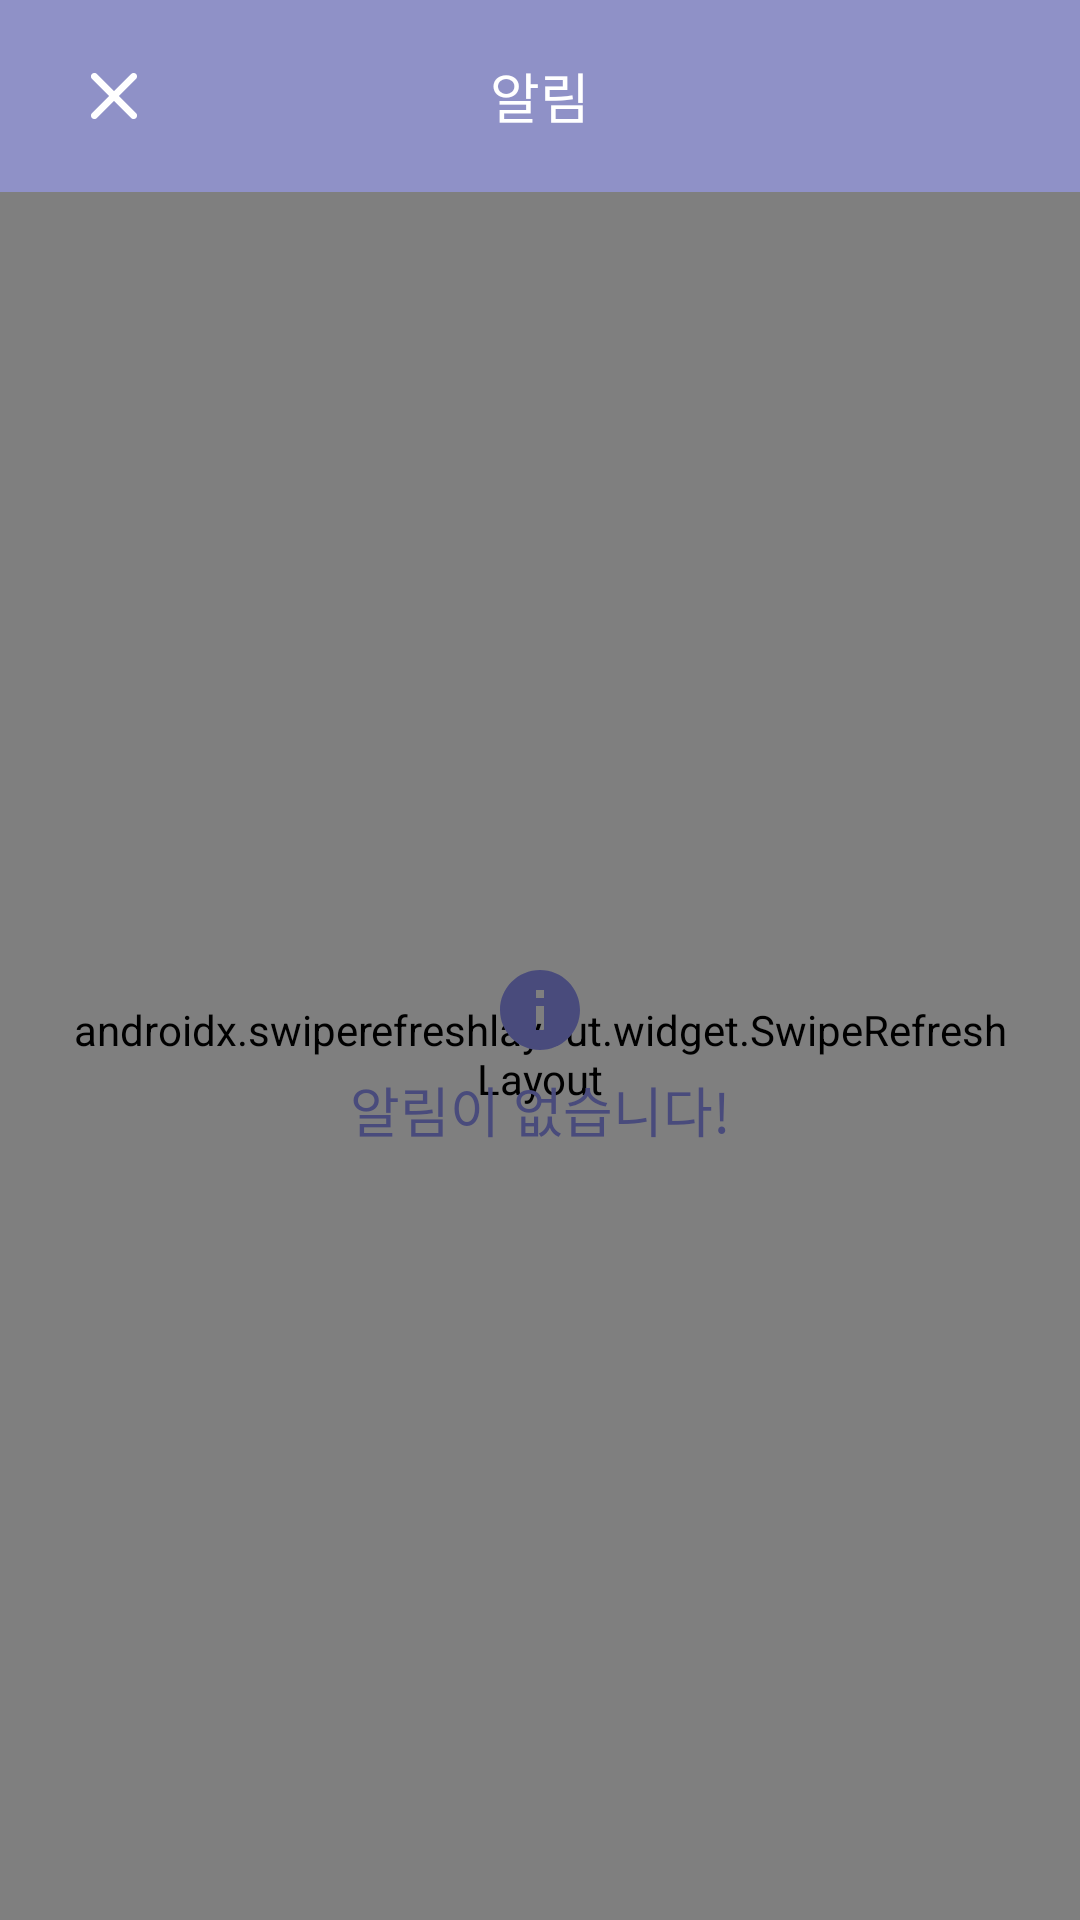

Screen size 1080px×1920px. Icon name, then its center in pixels as [x,y]:
close: [114,96]
info: [539,1012]
